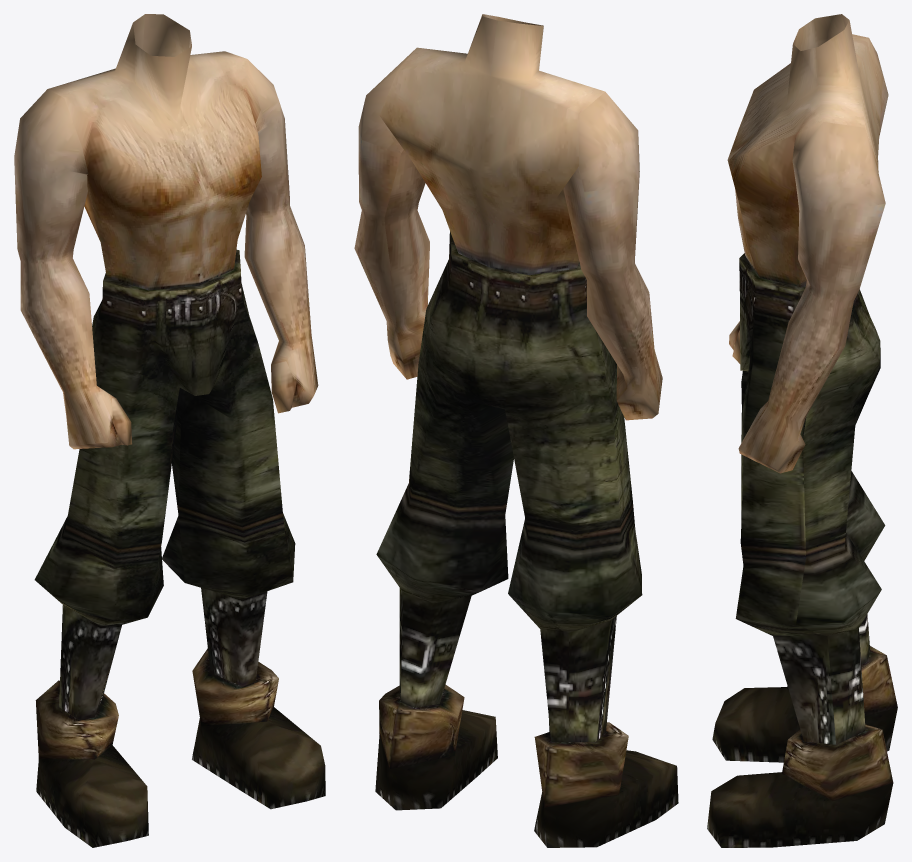
File: SC_KOPACZ.glb
3 renders of one model, left to right at view 1: azimuth 30°, elevation 25°; view 2: azimuth 150°, elevation 25°; view 3: azimuth 270°, elevation 25°, orthographic. The views are drawn at different scales.
Parts seen in each view (by area): view 1: SC_KOPACZ; view 2: SC_KOPACZ; view 3: SC_KOPACZ.
Part boxes in pixels (x1,y1,x2,y2): SC_KOPACZ: [14, 14, 325, 847]; SC_KOPACZ: [354, 14, 678, 847]; SC_KOPACZ: [707, 14, 897, 847].
Bounding box in the file's own units: 0.6296 × 1.69 × 0.3785.
Materials: 2 (2 with a texture image).
